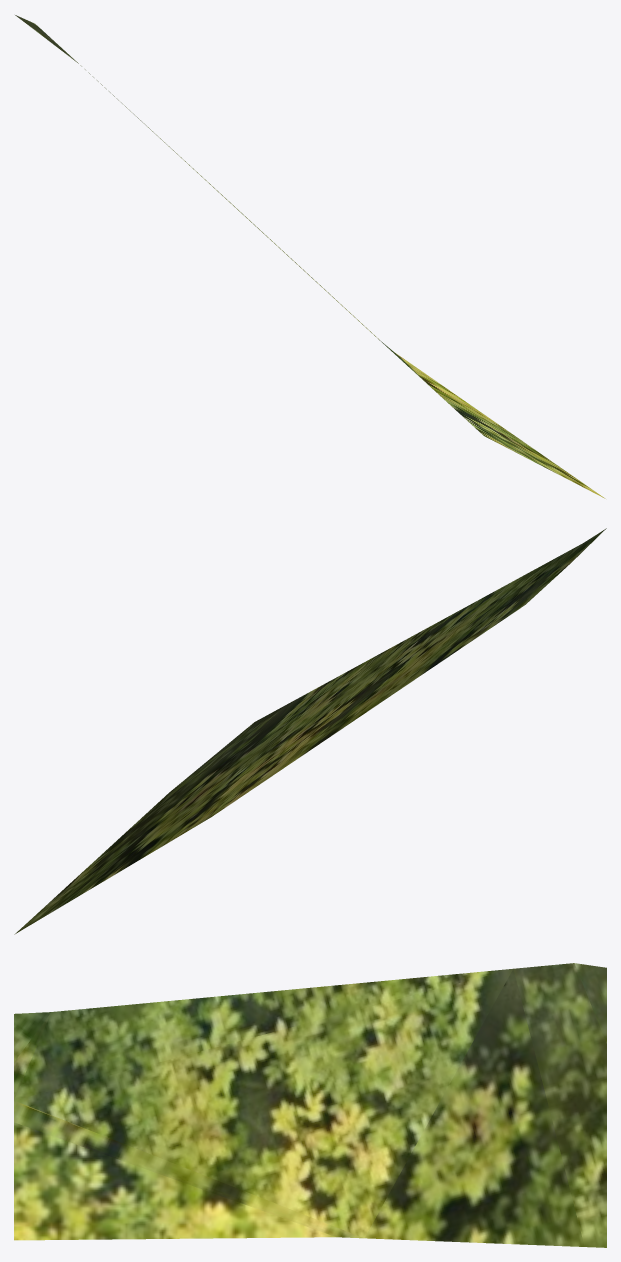
3 renders of one model, top to bottom at view 1: azimuth 30°, elevation 25°; view 2: azimuth 150°, elevation 25°; view 3: azimuth 270°, elevation 25°, orthographic. The views are drawn at different scales.
Bounding box in the file's own units: 1 × 1.1 × 2.95.
2 materials, 2 textured.
